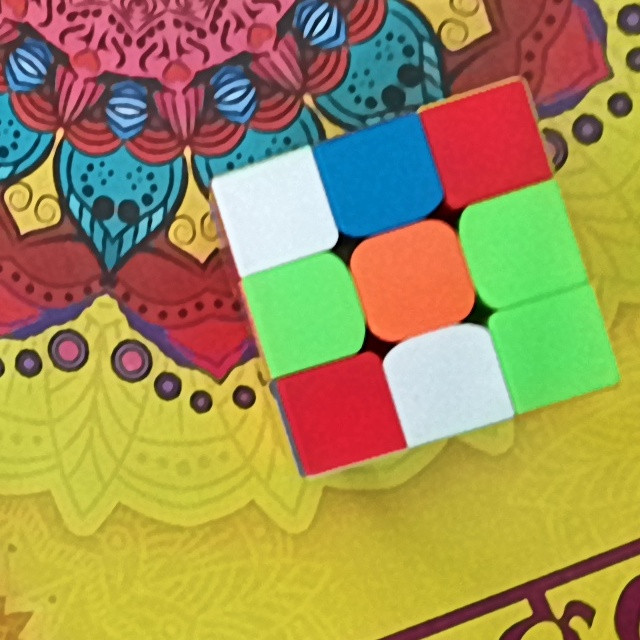tile: (484, 205, 562, 286), (335, 142, 420, 216), (407, 344, 487, 421), (514, 312, 594, 389), (375, 240, 453, 318), (268, 277, 344, 356), (444, 108, 527, 180), (233, 178, 313, 251), (304, 376, 380, 452)
